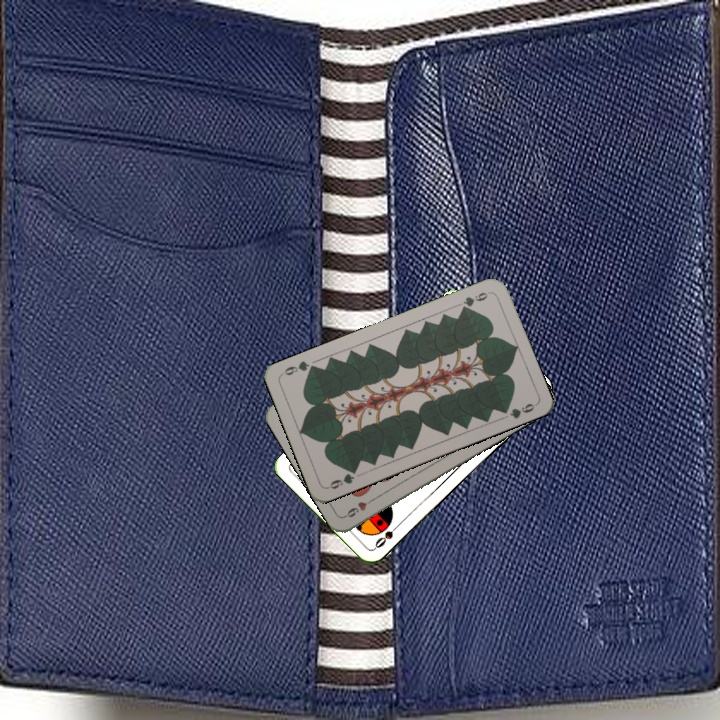G9: (324, 464, 360, 492), (456, 287, 493, 313)
H9: (341, 494, 377, 520)
SO: (371, 519, 404, 551)
